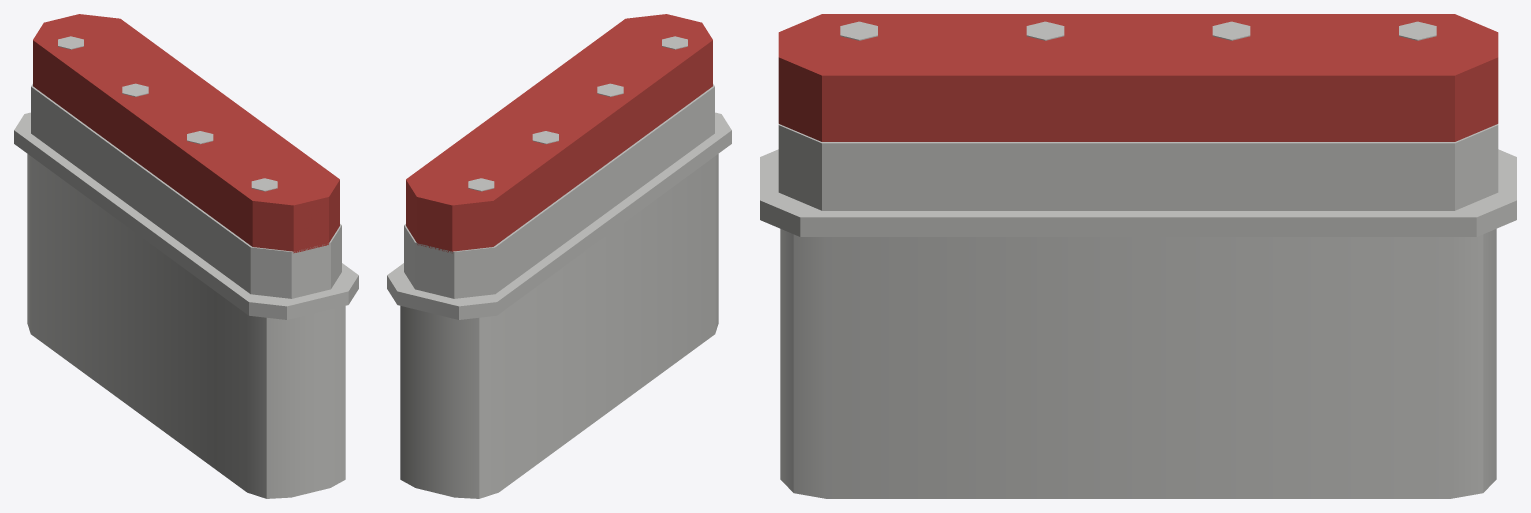
File: hot_cam_lod2.glb
The picture shows the model from 3 angles, left to right: view 1: azimuth 30°, elevation 25°; view 2: azimuth 150°, elevation 25°; view 3: azimuth 270°, elevation 25°; orthographic projection. The views are drawn at different scales.
Visible parts, largest first — view 1: hot_cam_lod2; view 2: hot_cam_lod2; view 3: hot_cam_lod2.
Part boxes in pixels (x1,y1,x2,y2): hot_cam_lod2: [14, 14, 358, 498]; hot_cam_lod2: [387, 14, 731, 498]; hot_cam_lod2: [760, 14, 1516, 498].
Bounding box in the file's own units: 0.118 × 0.3 × 0.488.
